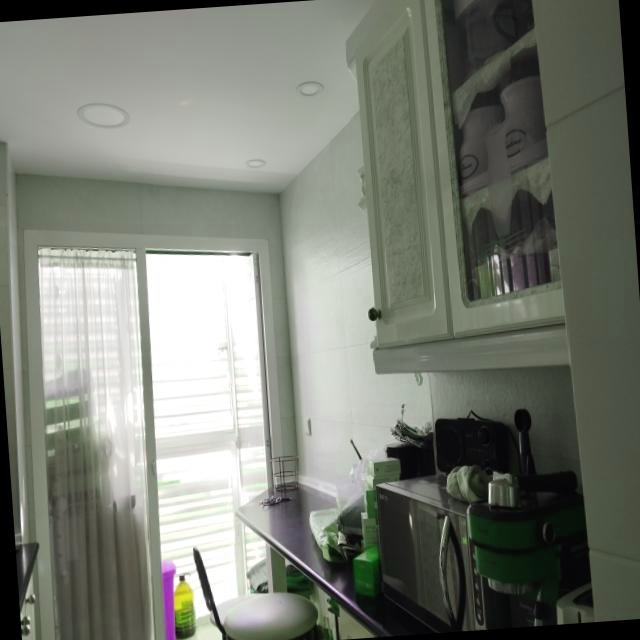cabinet: (346, 0, 570, 376)
chair: (193, 546, 322, 640)
countertop: (236, 485, 436, 636)
microwave: (376, 475, 510, 633)
